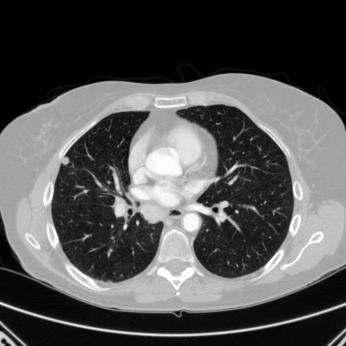nodule: (61, 157, 69, 165)
